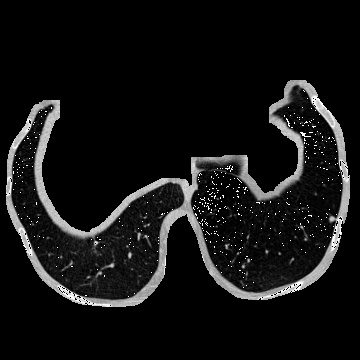PN: (330, 217, 334, 221)
